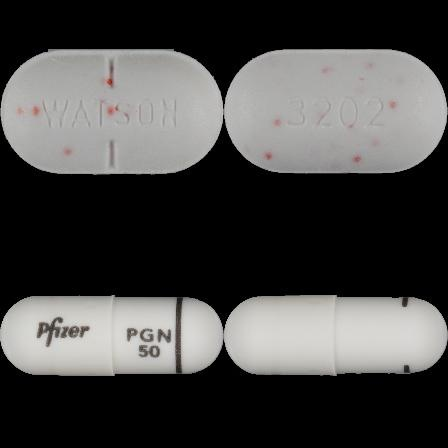16590-494: (0, 0, 224, 224)
